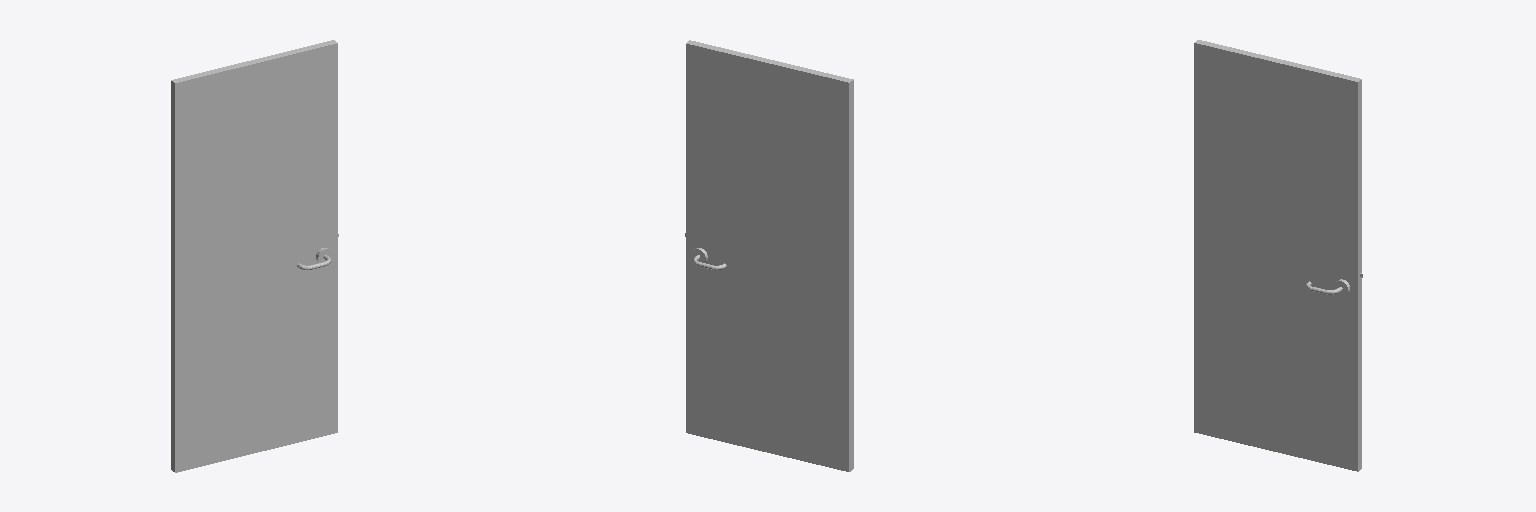
Rendered from door.obj.
3 renders of one model, left to right at view 1: azimuth 30°, elevation 25°; view 2: azimuth 150°, elevation 25°; view 3: azimuth 330°, elevation 25°, orthographic.
Parts seen in each view (by area): view 1: Door; view 2: Door; view 3: Door.
Boxes of the visible parts, <box> form: Door: <box>171,40,338,472</box>; Door: <box>685,40,853,471</box>; Door: <box>1194,40,1362,471</box>.
Bounding box in the file's own units: 0.8563 × 1.92 × 0.2275.